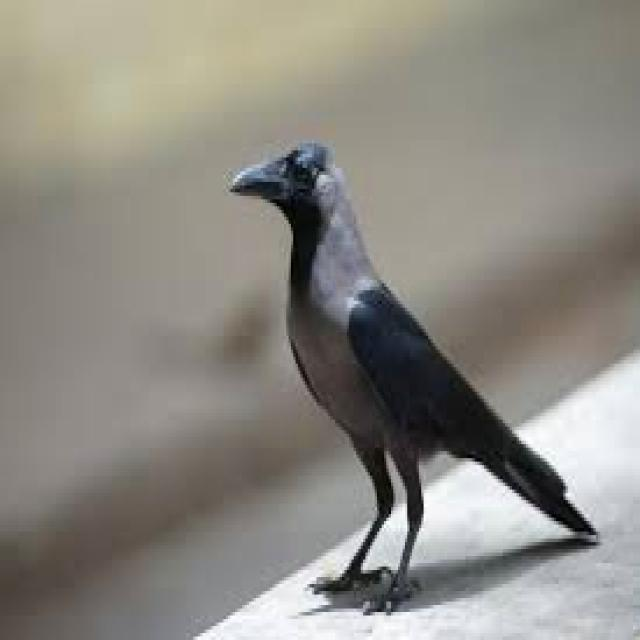crow: (230, 143, 593, 609)
